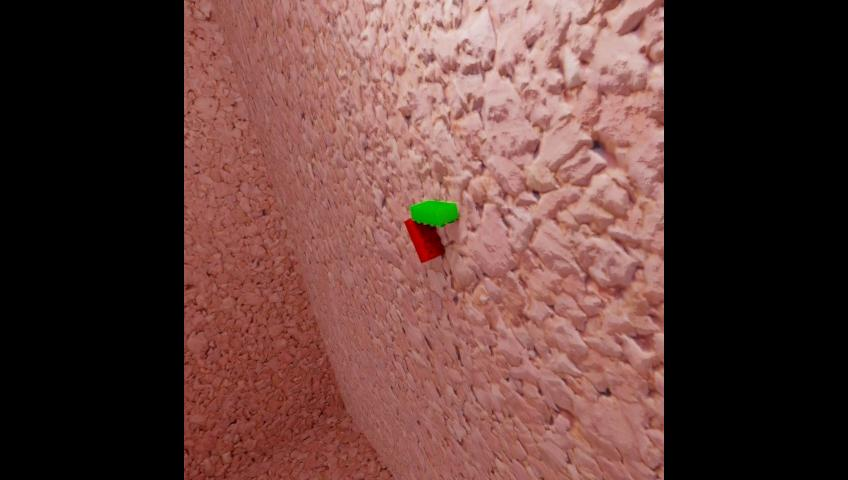4x2_green: (409, 199, 459, 226)
4x2_red: (403, 218, 444, 263)
